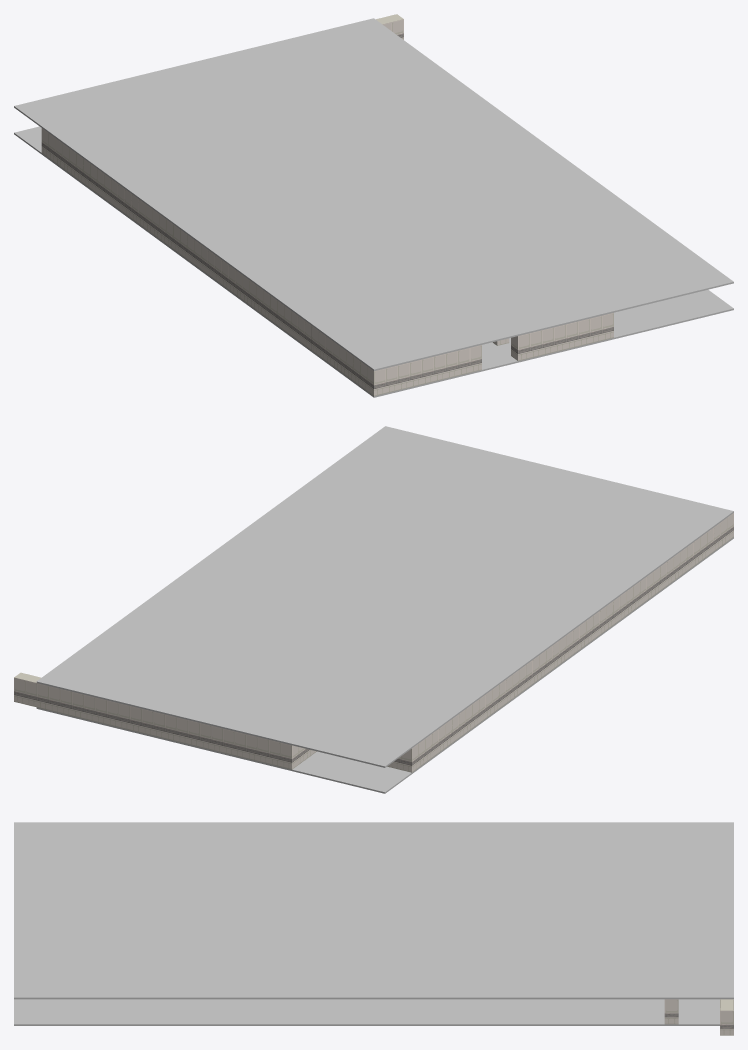
File: testsss.obj
3 renders of one model, top to bottom at view 1: azimuth 30°, elevation 25°; view 2: azimuth 150°, elevation 25°; view 3: azimuth 270°, elevation 25°, orthographic. The views are drawn at different scales.
Parts seen in each view (by area): view 1: cube; view 2: cube; view 3: cube.
Boxes of the visible parts, x1,y1,x2,y2 form: cube: [14, 14, 733, 397]; cube: [14, 426, 733, 793]; cube: [14, 822, 733, 1035].
Size of the model in its own units: 31.94 by 2.25 by 52.
2 materials, 1 textured.
